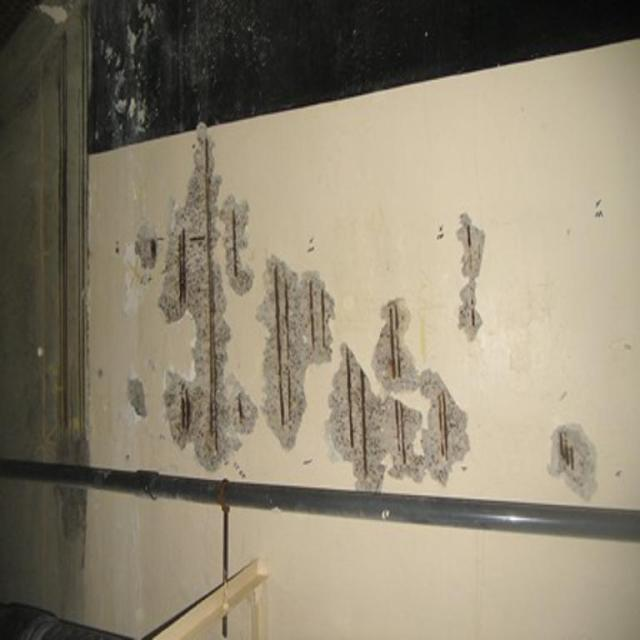Rebar: (159, 132, 256, 476), (327, 294, 476, 493), (257, 257, 334, 452), (456, 215, 491, 342), (555, 425, 601, 502), (136, 236, 161, 280)
concrete spalling: (122, 376, 149, 417)
